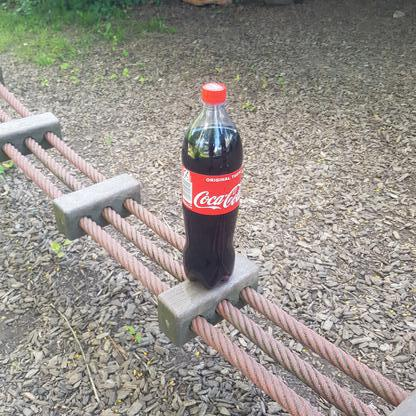coca-cola: (179, 81, 245, 292)
